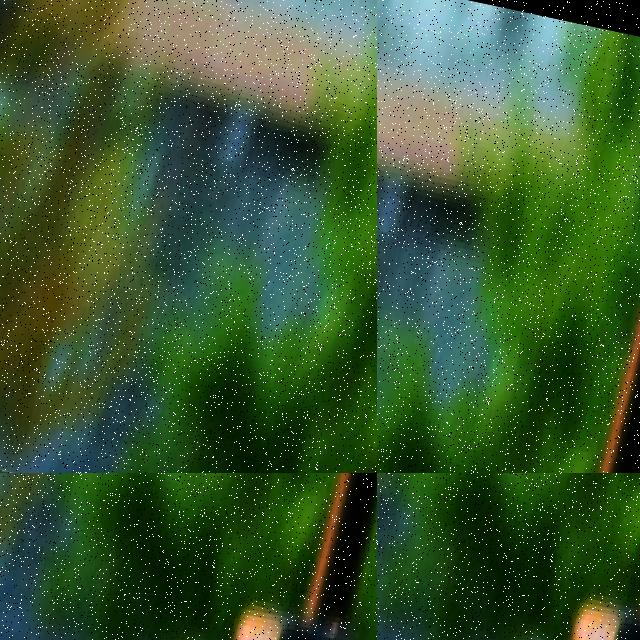drone: (0, 0, 377, 473)
